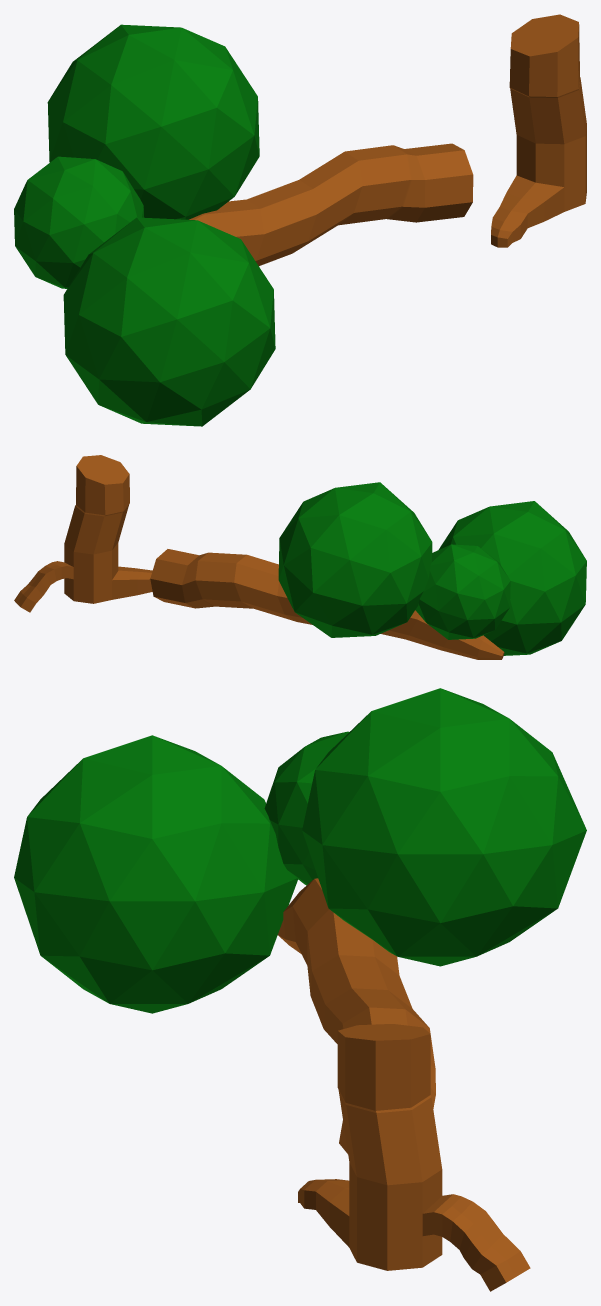
Rendered from Arbol5.fbx.
3 renders of one model, top to bottom at view 1: azimuth 30°, elevation 25°; view 2: azimuth 150°, elevation 25°; view 3: azimuth 270°, elevation 25°, orthographic. The views are drawn at different scales.
Visible parts, largest first — view 1: Icosphere.002, Icosphere.001, Cylinder.001, Cylinder.002, Icosphere.017; view 2: Icosphere.001, Icosphere.002, Cylinder.002, Cylinder.001, Icosphere.017; view 3: Icosphere.001, Icosphere.002, Cylinder.002, Cylinder.001, Icosphere.017.
Boxes of the visible parts, <box> form: Icosphere.002: <box>63,217,275,426</box>; Icosphere.001: <box>47,24,259,219</box>; Cylinder.001: <box>189,143,473,265</box>; Cylinder.002: <box>491,14,586,247</box>; Icosphere.017: <box>14,156,143,288</box>; Icosphere.001: <box>278,482,432,637</box>; Icosphere.002: <box>438,501,586,655</box>; Cylinder.002: <box>14,455,152,612</box>; Cylinder.001: <box>150,549,504,659</box>; Icosphere.017: <box>415,544,510,639</box>; Icosphere.001: <box>302,688,586,966</box>; Icosphere.002: <box>14,735,298,1013</box>; Cylinder.002: <box>298,1024,530,1291</box>; Cylinder.001: <box>278,878,435,1153</box>; Icosphere.017: <box>264,731,348,885</box>.
Bounding box in the file's own units: 595 × 253 × 370.
